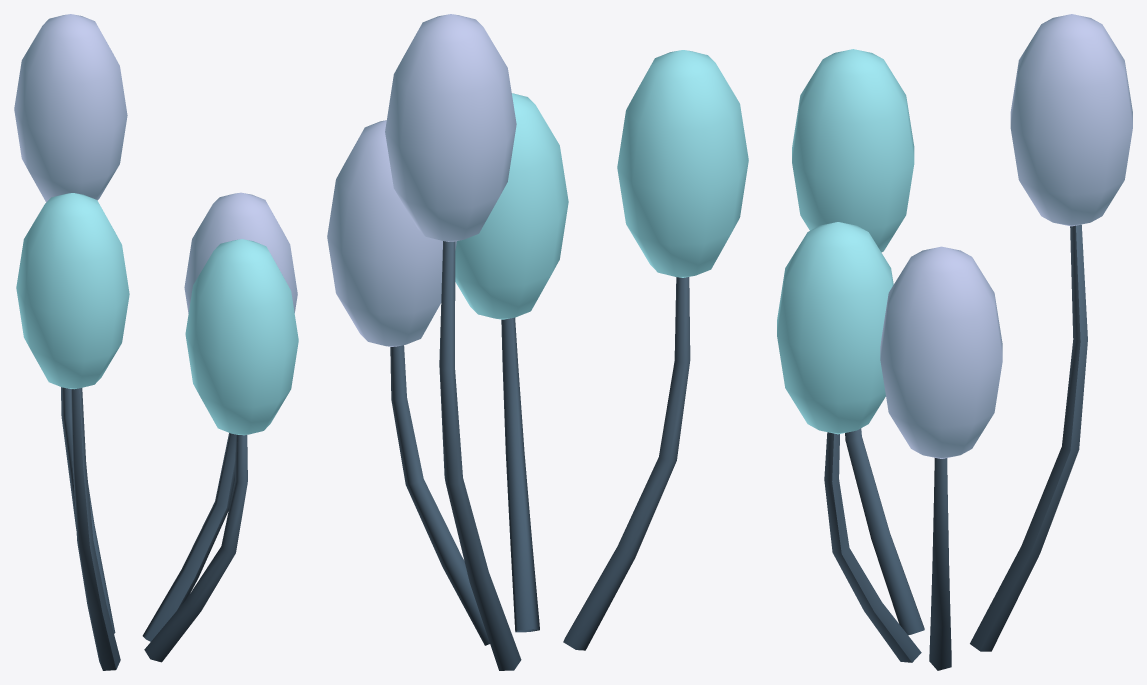
Rendered from alien-pod.glb.
The picture shows the model from 3 angles, left to right: view 1: azimuth 30°, elevation 25°; view 2: azimuth 150°, elevation 25°; view 3: azimuth 270°, elevation 25°; orthographic projection. The views are drawn at different scales.
Visible parts, largest first — view 1: pod-1, pod-0; view 2: pod-0, pod-1; view 3: pod-1, pod-0.
Part boxes in pixels (left/top/right/bottom): pod-1: left=22, top=14, right=298, bottom=662; pod-0: left=14, top=14, right=297, bottom=670; pod-0: left=327, top=14, right=748, bottom=670; pod-1: left=349, top=14, right=715, bottom=669; pod-1: left=777, top=14, right=1080, bottom=662; pod-0: left=792, top=14, right=1132, bottom=670.
Size of the model in its own units: 0.5397 by 1 by 0.5028.
